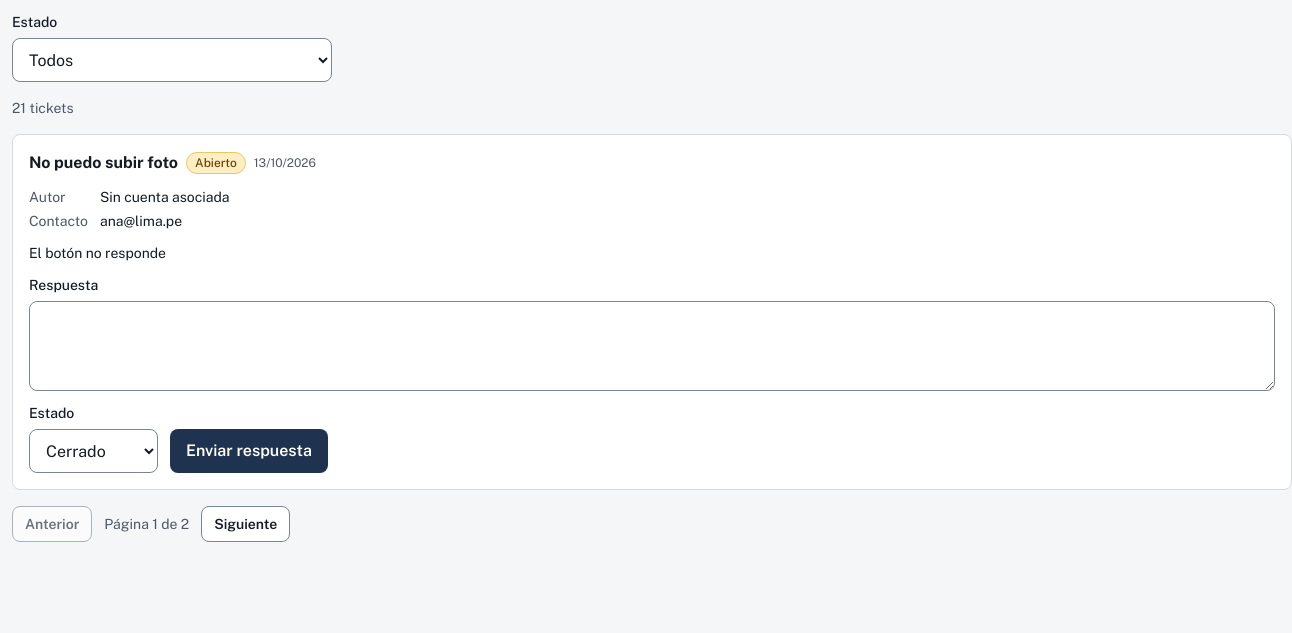
Test case: BandejaSoporte › no envía una respuesta vacía
The image size is (1292, 633).
Click the button "Enviar respuesta": (249, 451) x1=170 y1=429 x2=328 y2=473
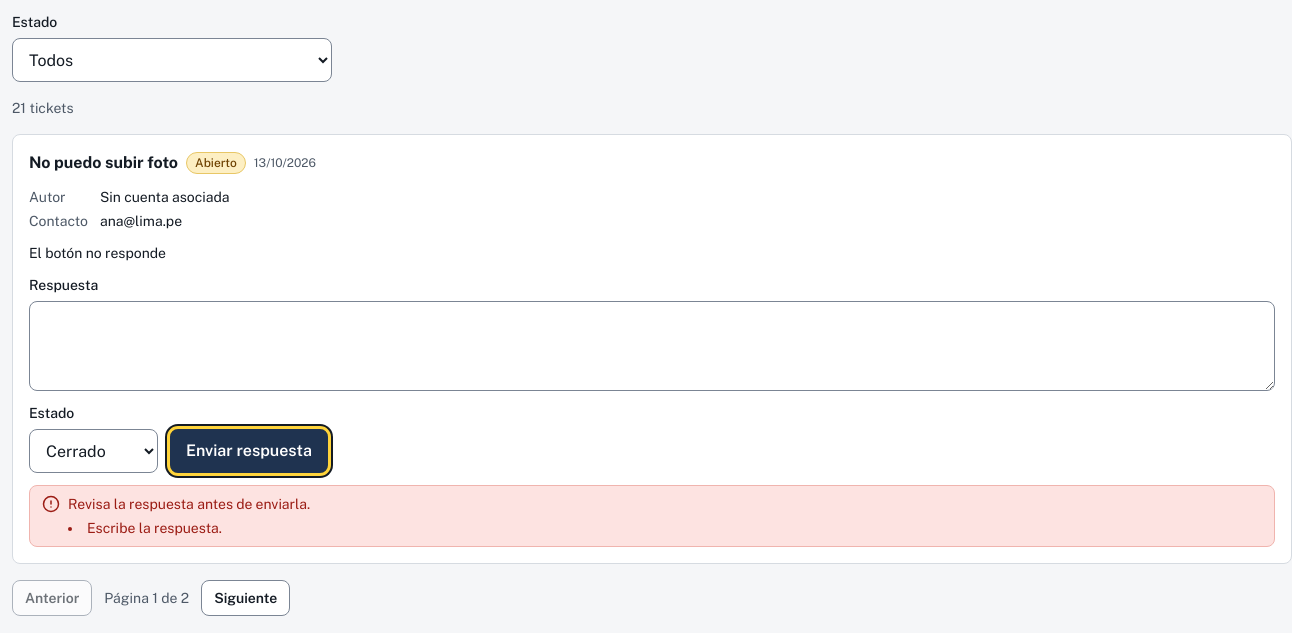
Now the list item "Escribe la respuesta." is shown, box x1=87 y1=520 x2=222 y2=536
